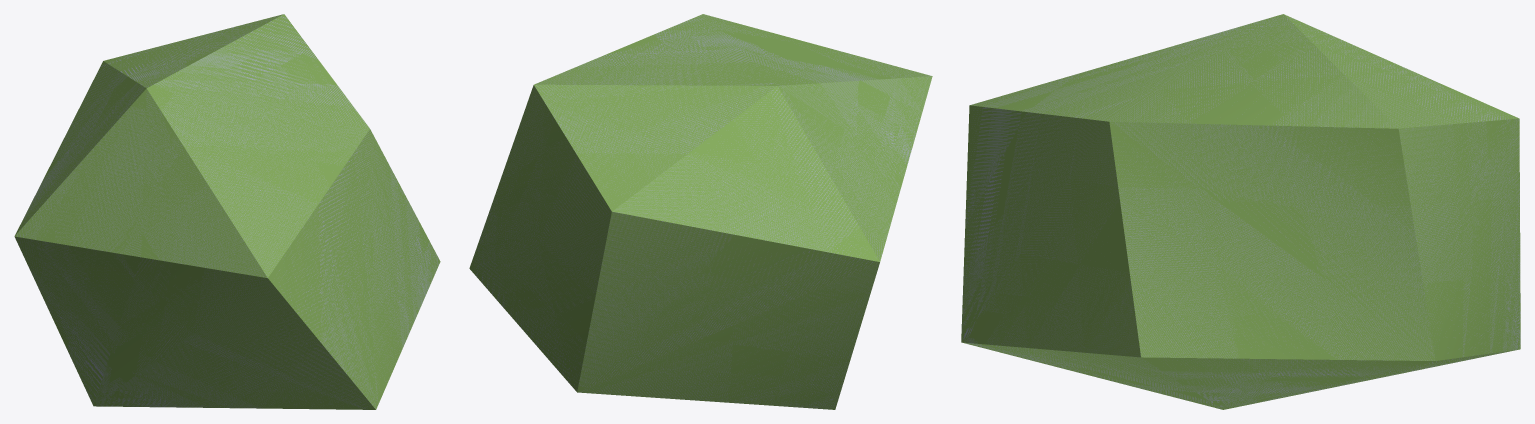
File: Bush_Small_02.fbx
3 views of the same model, side by side, from view 1: azimuth 30°, elevation 25°; view 2: azimuth 150°, elevation 25°; view 3: azimuth 270°, elevation 25° (orthographic). The views are drawn at different scales.
Visible parts, largest first — view 1: Model; view 2: Model; view 3: Model.
Boxes of the visible parts, x1=… form: Model: x1=14, y1=14, x2=440, y2=409; Model: x1=469, y1=14, x2=932, y2=409; Model: x1=961, y1=14, x2=1520, y2=409.
Size of the model in its own units: 146 by 121 by 175.
